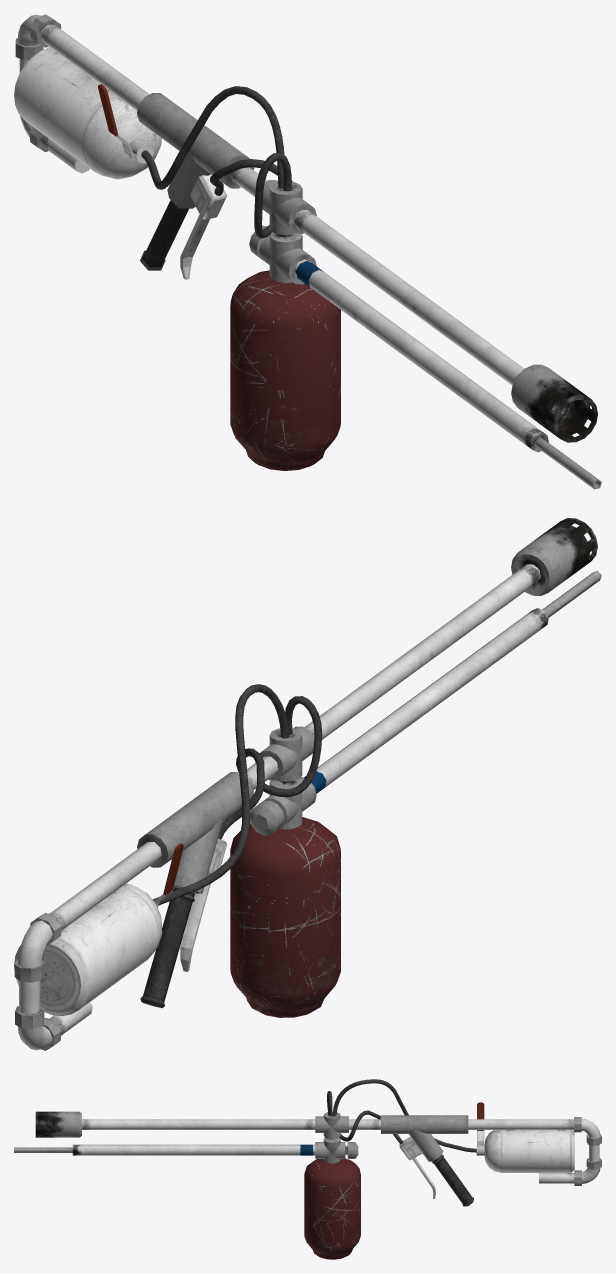
The model's file is item_flamegun.glb.
3 views of the same model, one above another, from view 1: azimuth 30°, elevation 25°; view 2: azimuth 150°, elevation 25°; view 3: azimuth 270°, elevation 25° (orthographic). The views are drawn at different scales.
Parts seen in each view (by area): view 1: Firegun_group_03_low, Firegun_group_01_low, Firegun_group_02_low; view 2: Firegun_group_03_low, Firegun_group_01_low, Firegun_group_02_low; view 3: Firegun_group_03_low, Firegun_group_02_low, Firegun_group_01_low.
Part boxes in pixels (box(x1,y1,x2,y2)): Firegun_group_03_low: box(14, 14, 340, 470); Firegun_group_01_low: box(15, 14, 601, 489); Firegun_group_02_low: box(19, 24, 548, 452); Firegun_group_03_low: box(14, 684, 340, 1050); Firegun_group_01_low: box(14, 518, 601, 1050); Firegun_group_02_low: box(19, 564, 548, 1035); Firegun_group_03_low: box(304, 1079, 600, 1259); Firegun_group_02_low: box(72, 1119, 599, 1183); Firegun_group_01_low: box(14, 1102, 601, 1206).
Size of the model in its own units: 81.23 by 274 by 841.
1 material, 1 textured.
